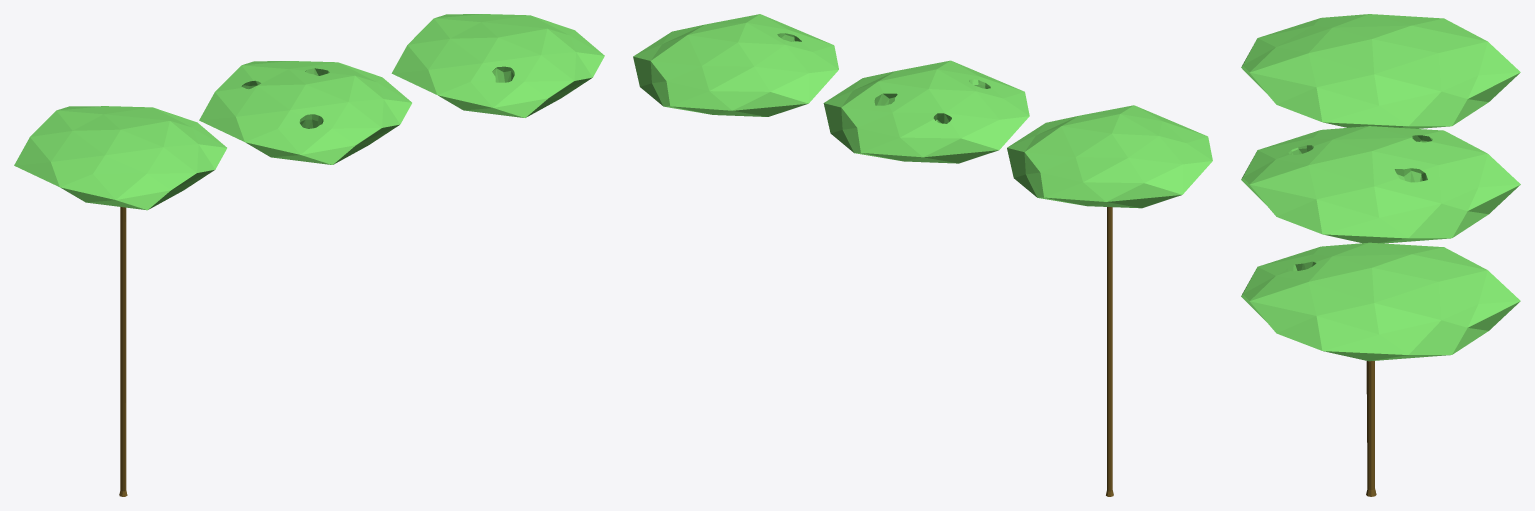
File: LongTree.glb
The picture shows the model from 3 angles, left to right: view 1: azimuth 30°, elevation 25°; view 2: azimuth 150°, elevation 25°; view 3: azimuth 270°, elevation 25°; orthographic projection. The views are drawn at different scales.
Visible parts, largest first — view 1: Leaves, Leaves_2, Leaves_1, Log; view 2: Leaves, Leaves_1, Leaves_2, Log; view 3: Leaves_2, Leaves_1, Leaves, Log.
Part boxes in pixels (x1=…): Leaves: x1=14, y1=106, x2=226, y2=210; Leaves_2: x1=391, y1=14, x2=604, y2=117; Leaves_1: x1=199, y1=61, x2=411, y2=164; Log: x1=119, y1=207, x2=127, y2=496; Leaves: x1=1007, y1=105, x2=1212, y2=208; Leaves_1: x1=823, y1=60, x2=1029, y2=163; Leaves_2: x1=633, y1=14, x2=838, y2=116; Log: x1=1106, y1=207, x2=1113, y2=496; Leaves_2: x1=1241, y1=242, x2=1520, y2=361; Leaves_1: x1=1241, y1=126, x2=1520, y2=243; Leaves: x1=1241, y1=14, x2=1520, y2=128; Log: x1=1366, y1=361, x2=1376, y2=496.
Size of the model in its own units: 41.67 by 26.11 by 14.58.
